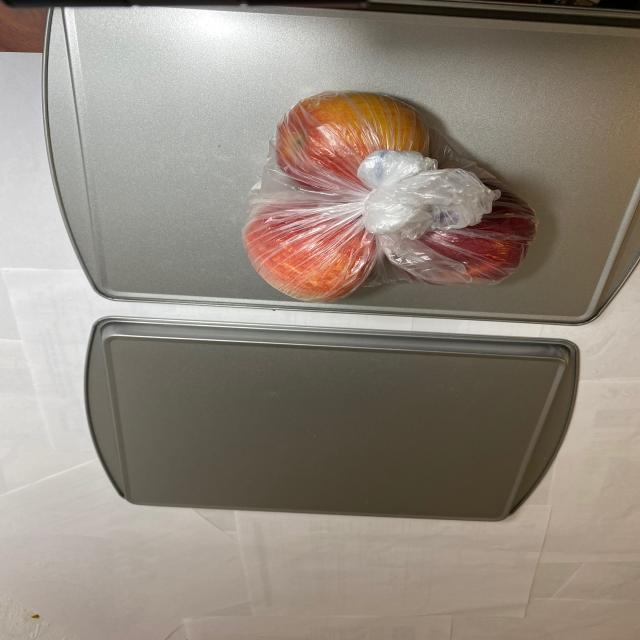apple: (234, 90, 539, 303)
